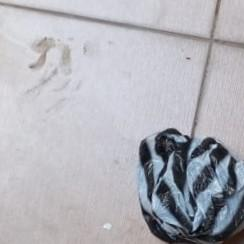Plastik: (138, 127, 244, 244)
